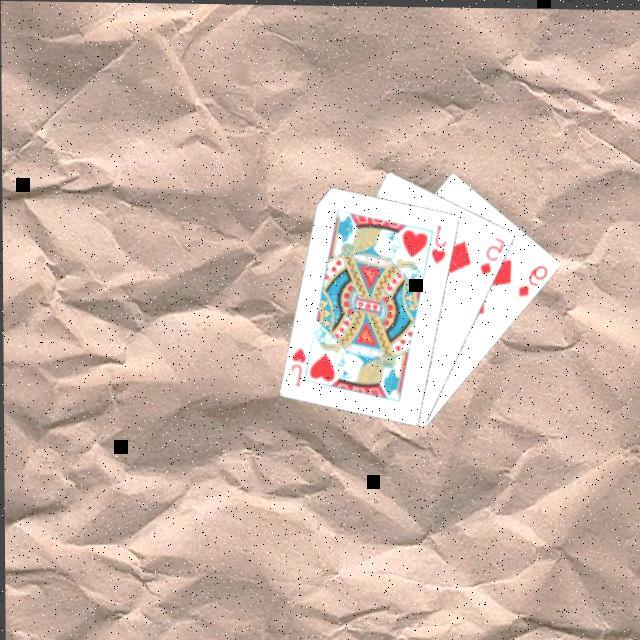5D: (477, 230, 509, 275)
9D: (516, 258, 552, 296)
JH: (428, 218, 451, 263), (288, 342, 310, 386)
